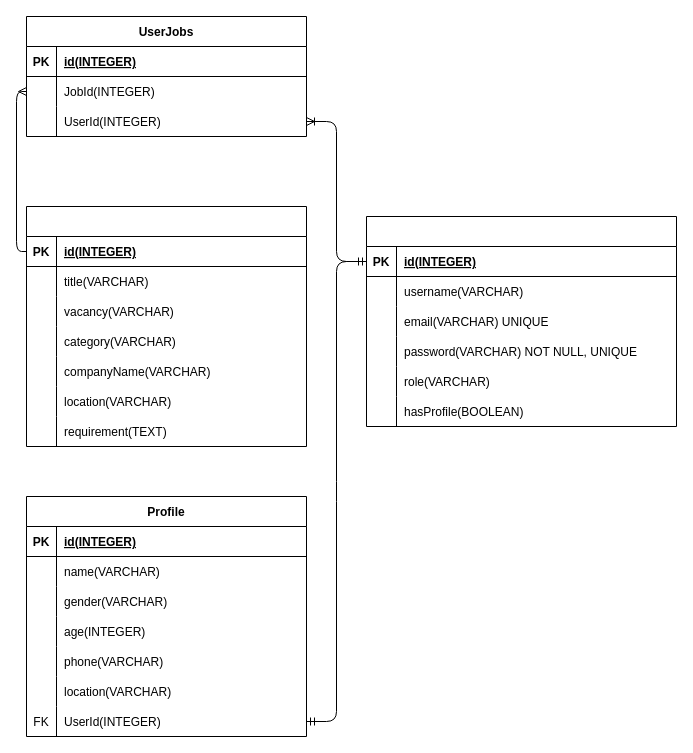
This 693x753 diagram has some shape labels left out. Each missing label, with the box of its shape:
Jobs: (26, 206, 306, 446)
Users: (366, 216, 676, 426)
